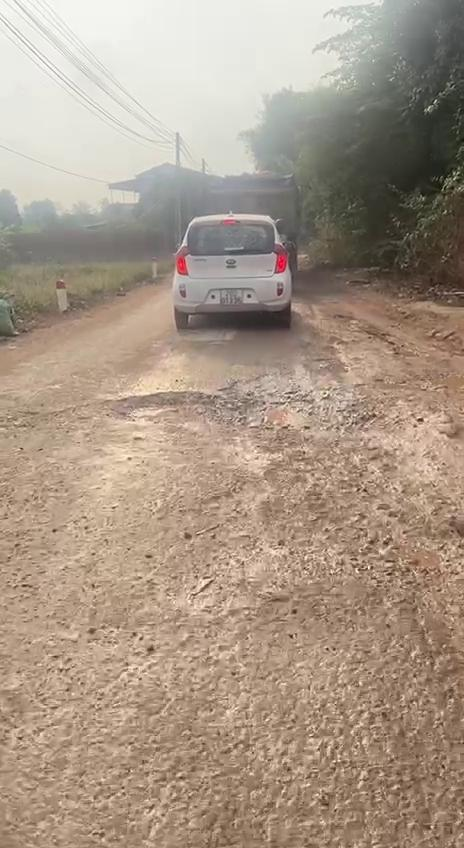pothole: (220, 385, 364, 436), (87, 386, 223, 432)
